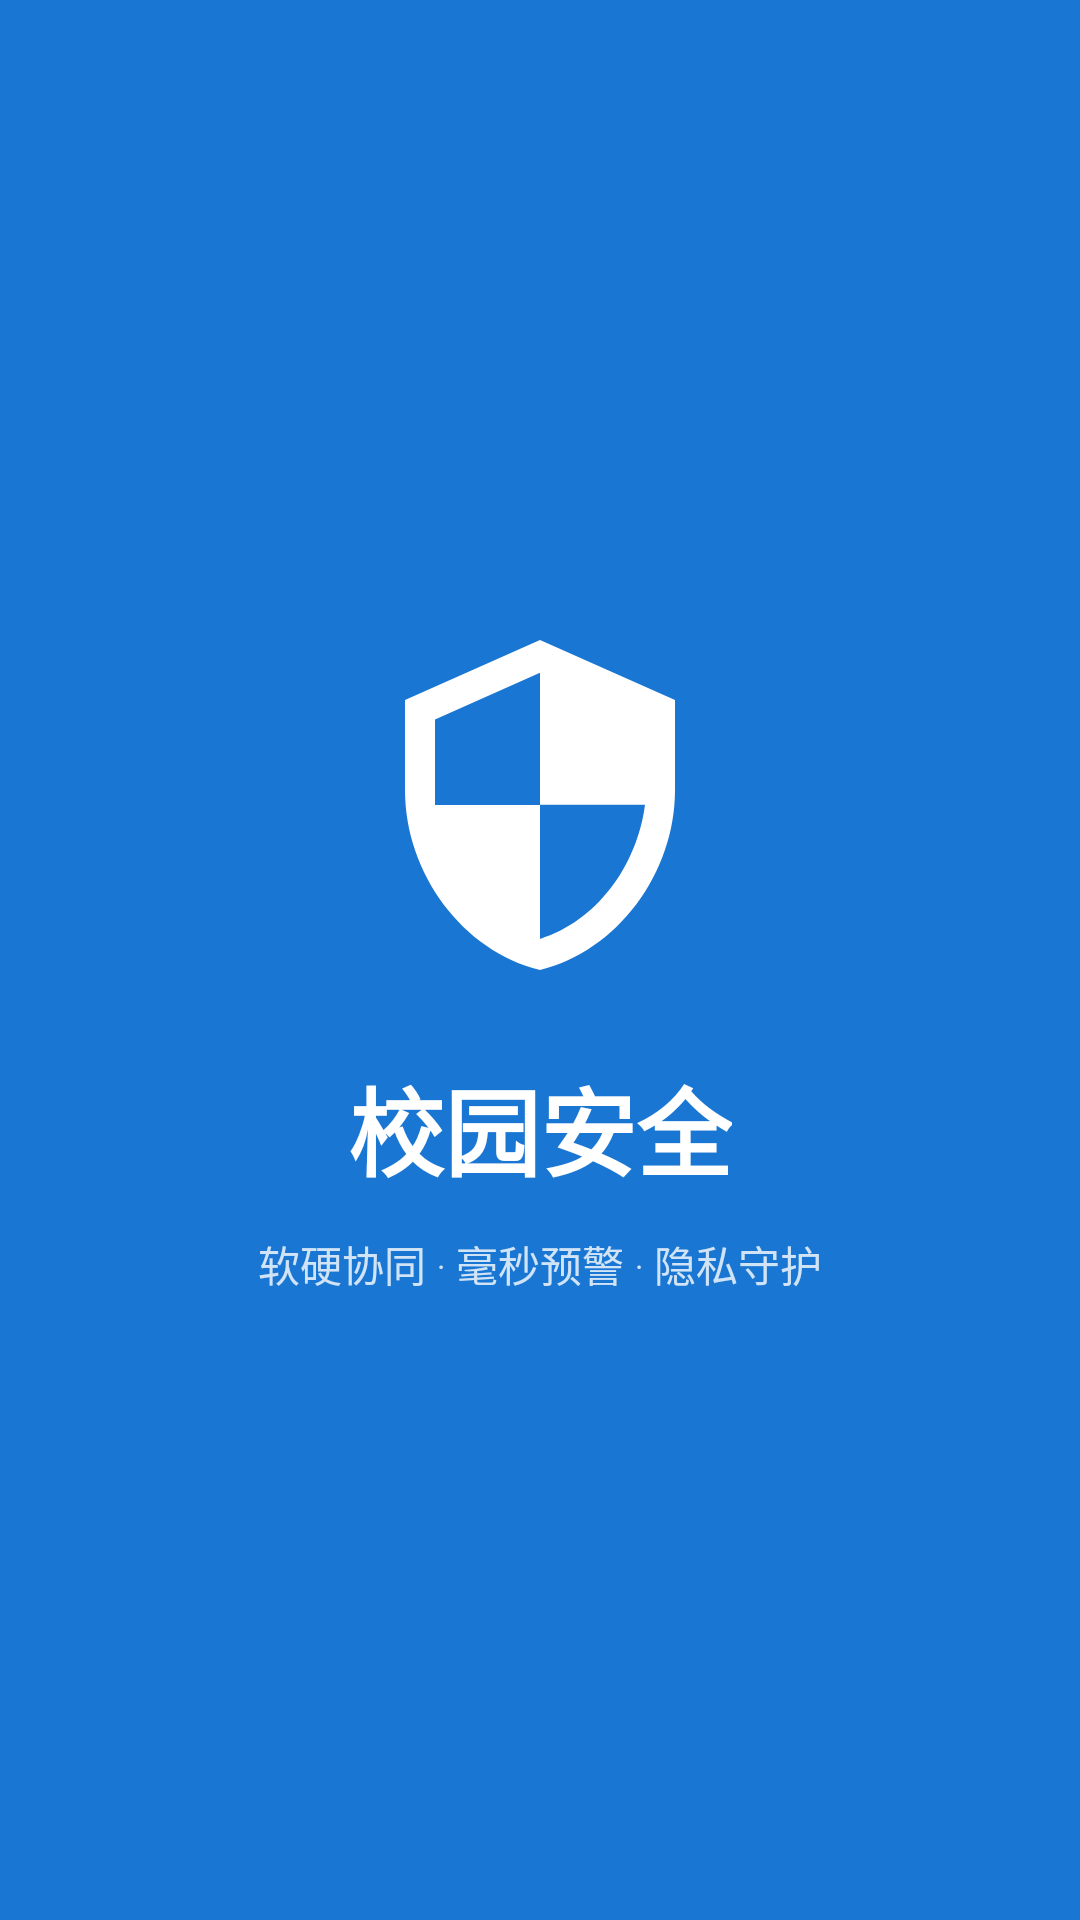

Where icons sit on this 1080px x 1920px app screen, as (x1, y1, x2, y2):
shield: (405, 640, 675, 970)
